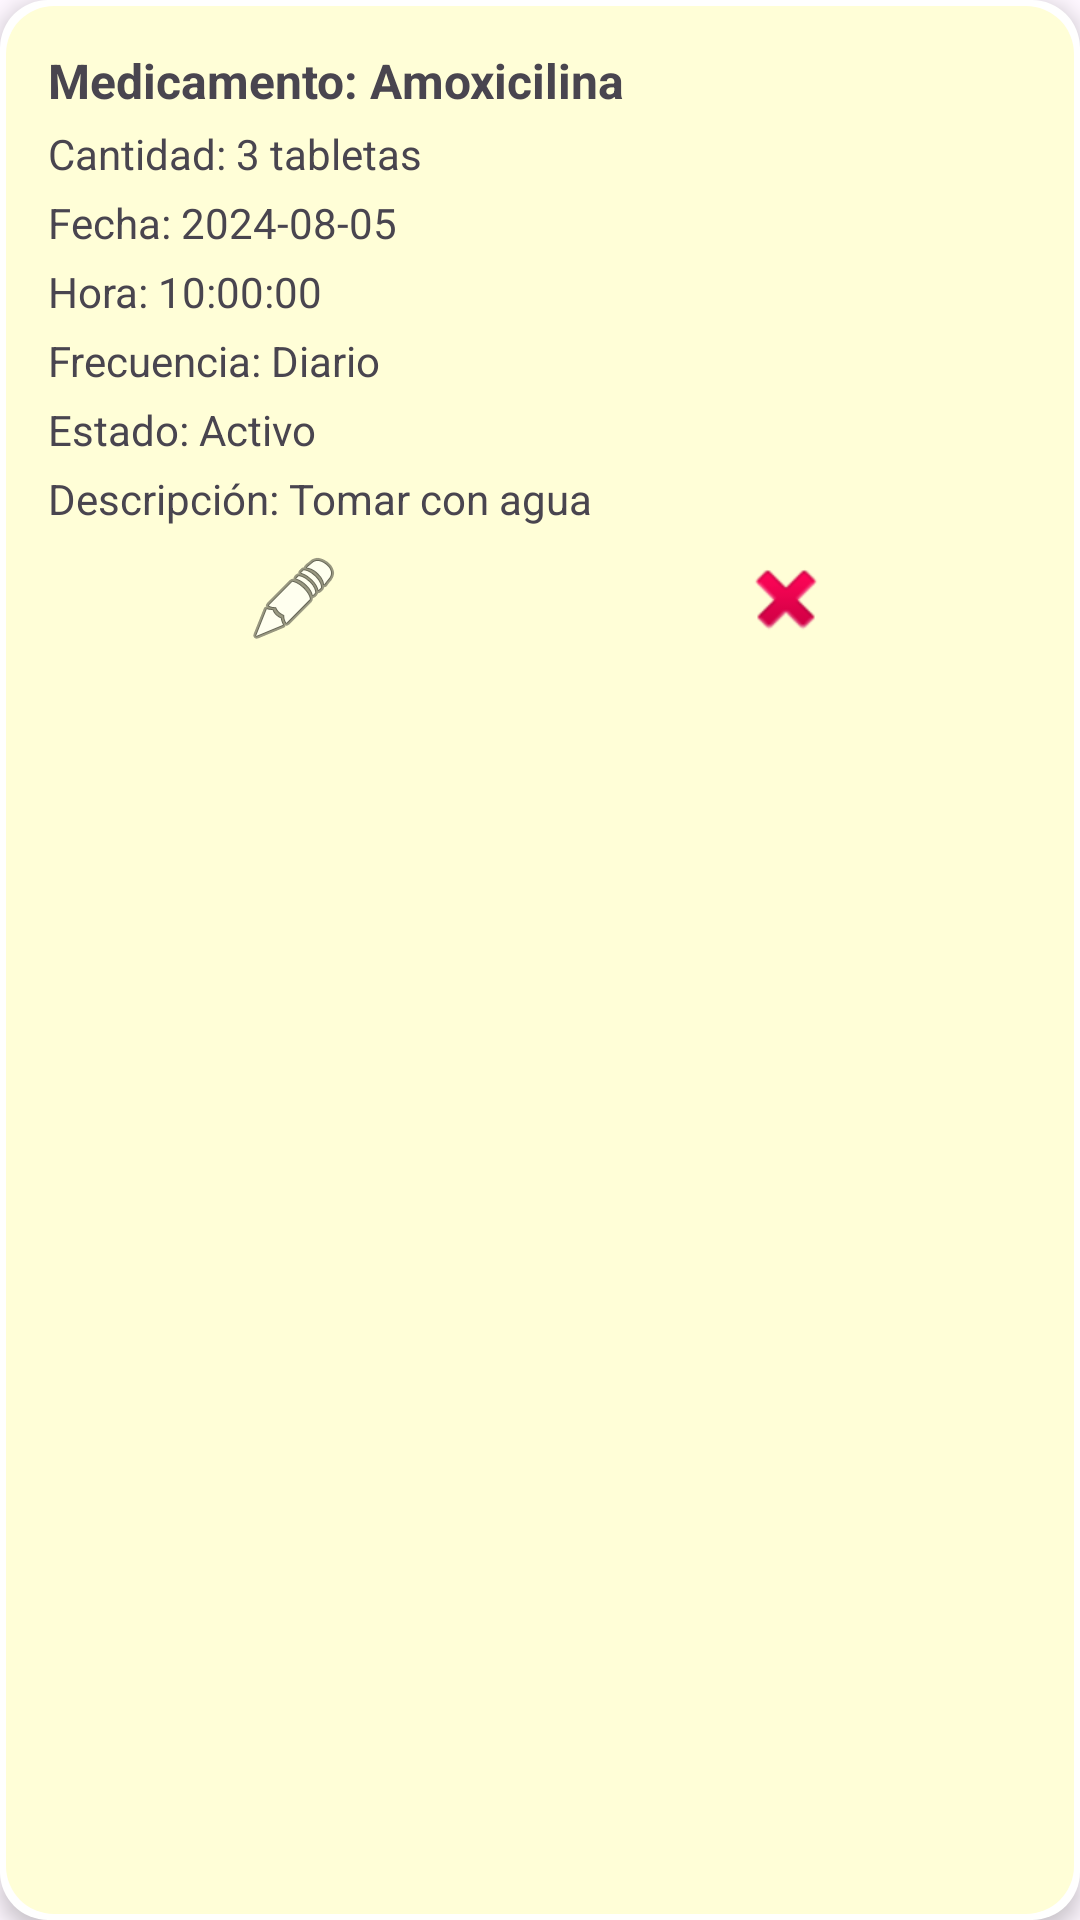

Named icons in this screenshot (1080w x 1920h) and their bounding boxes, BBox(x1, y1, x2, y2):
Editar Recordatorio: BBox(253, 558, 334, 639)
Eliminar Recordatorio: BBox(755, 570, 817, 629)
